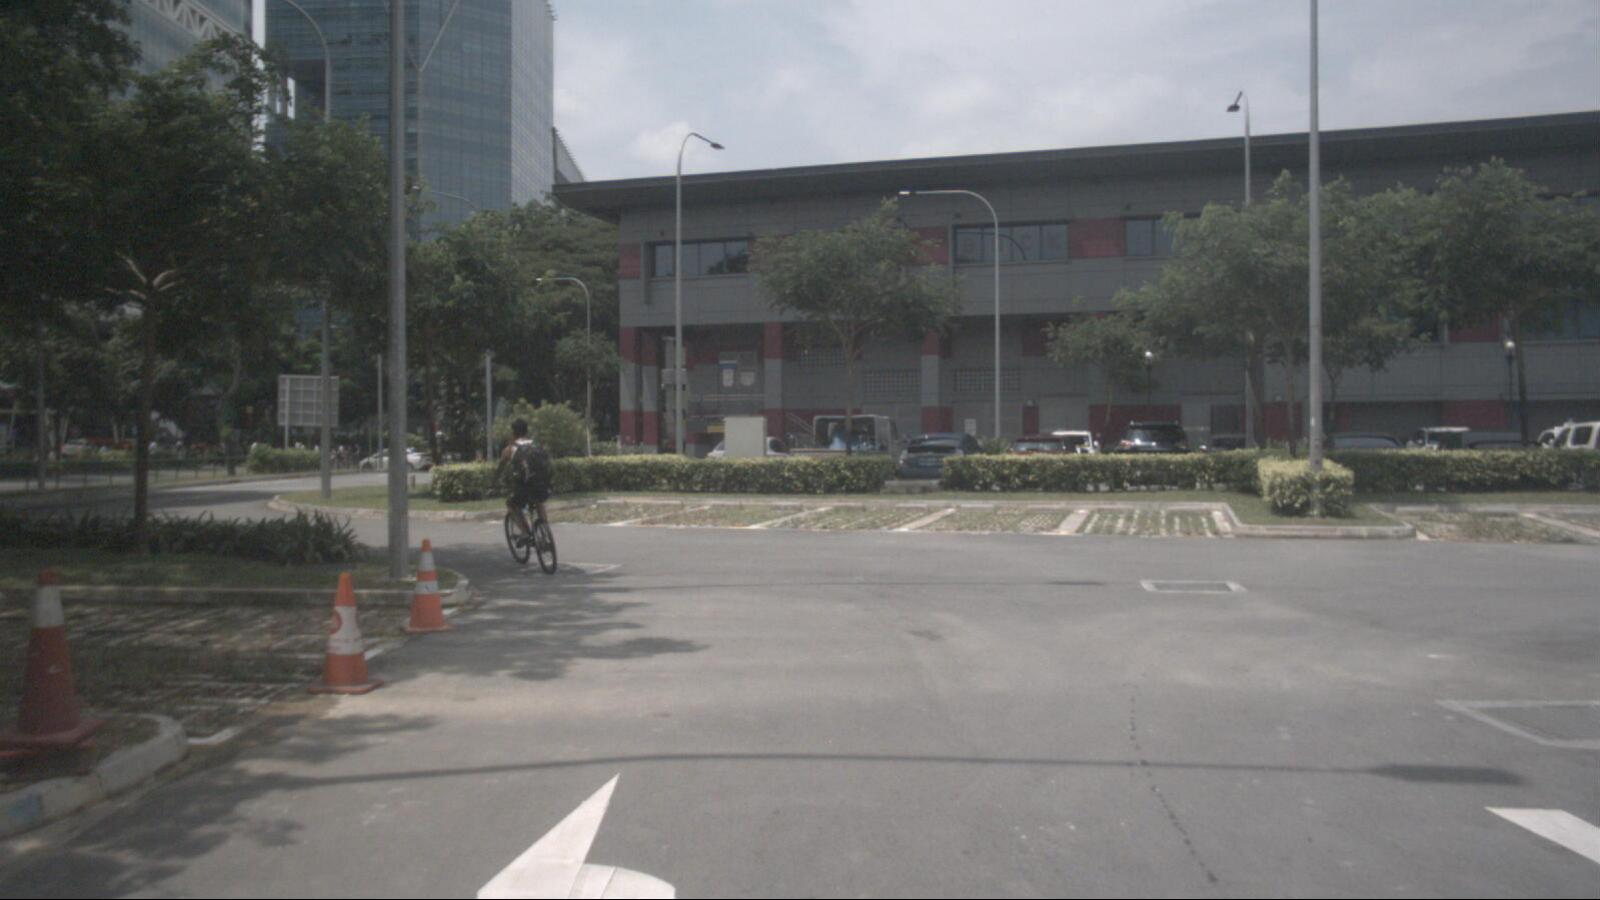human.pedestrian.adult-pedestrian.moving: (335, 442, 348, 471)
human.pedestrian.adult-pedestrian.standing: (351, 444, 361, 471)
vehicle.bicycle-cycle.with_rider: (483, 419, 557, 577)
